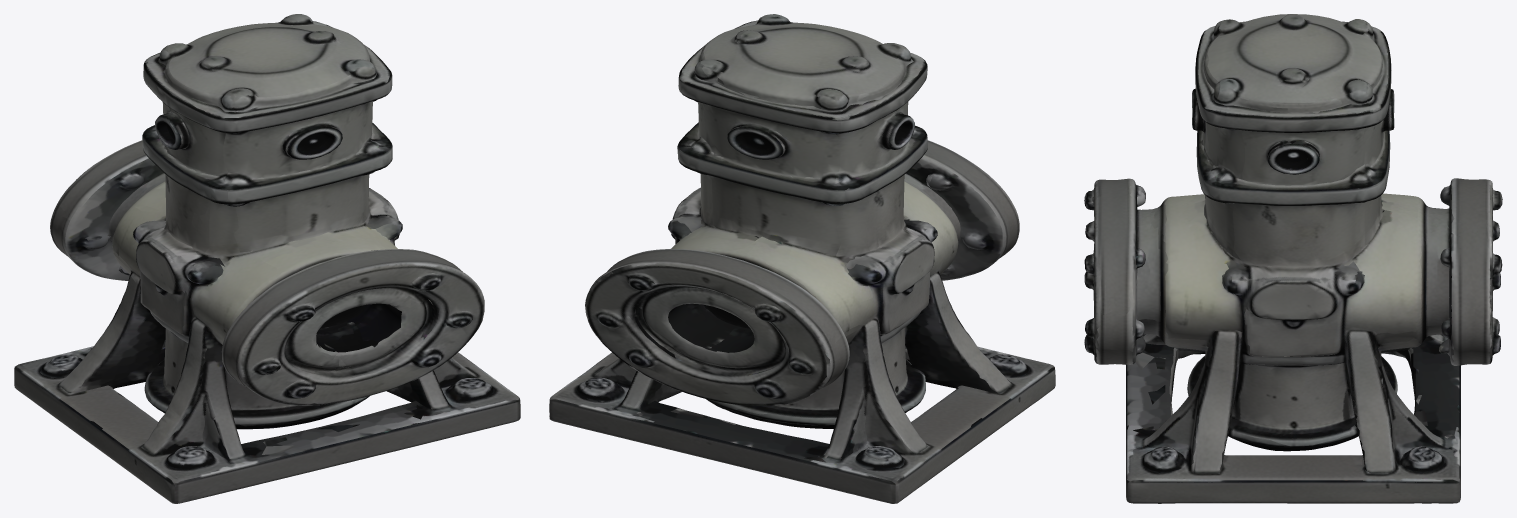
File: feature-water-pump.glb
3 views of the same model, side by side, from view 1: azimuth 30°, elevation 25°; view 2: azimuth 150°, elevation 25°; view 3: azimuth 270°, elevation 25° (orthographic). The views are drawn at different scales.
Visible parts, largest first — view 1: tmpl7gdx1ax.ply; view 2: tmpl7gdx1ax.ply; view 3: tmpl7gdx1ax.ply.
Boxes of the visible parts, left/top/right/bottom form: tmpl7gdx1ax.ply: left=14, top=14, right=520, bottom=503; tmpl7gdx1ax.ply: left=549, top=14, right=1055, bottom=503; tmpl7gdx1ax.ply: left=1084, top=14, right=1502, bottom=503.
Bounding box in the file's own units: 1 × 1 × 1.
Materials: 1 (1 with a texture image).
